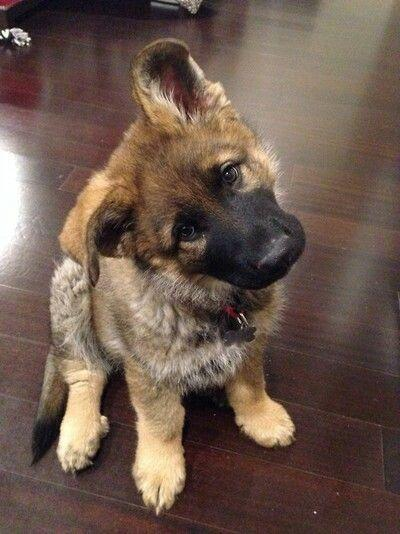puppy-dog: (27, 35, 307, 516)
